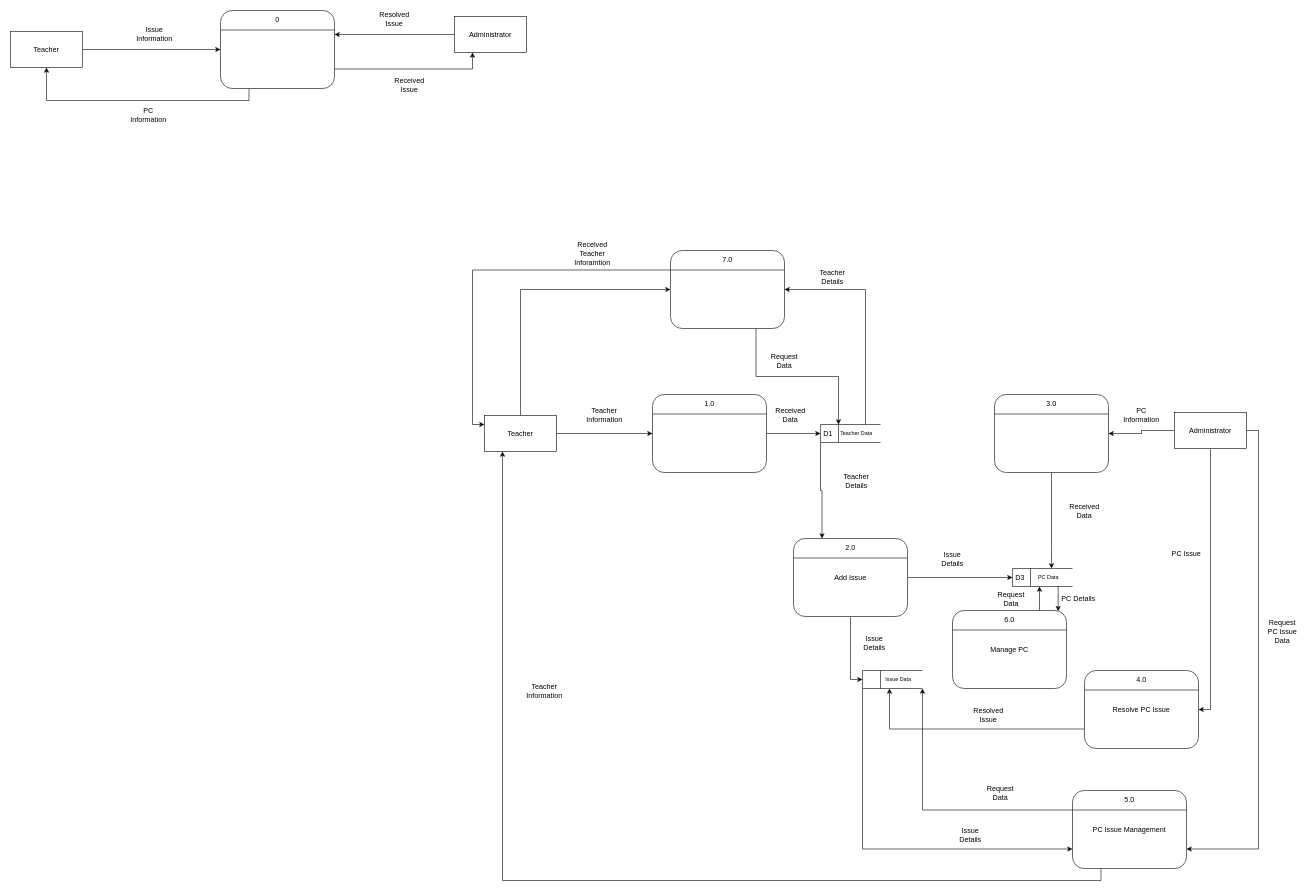
Some shapes in this 1311 by 896 pixel diagram are drawn without their labels. Here are the shapes that lost their labels. From the top down, the box of each, then its label:
(220, 10, 334, 88): Computer Laboratory Management System
(670, 250, 784, 328): Edit Teacher Information
(652, 394, 766, 472): Receieve Teacher Information
(994, 394, 1108, 472): Add PC
(862, 670, 922, 688): D2
